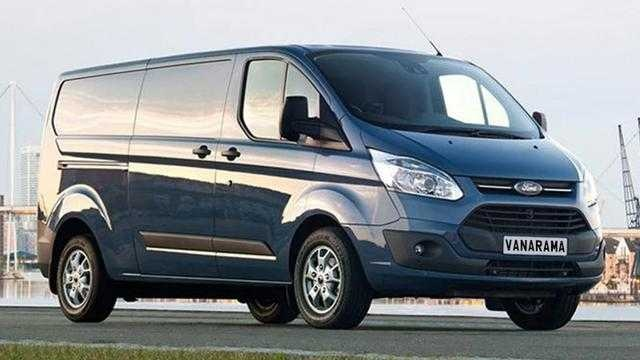van: (36, 40, 605, 330)
